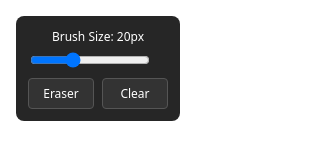
Test: MaskPenTool Component (Story 7.5) › Mask Erasing (AC #3) › should toggle eraser off on second click
Click the button with test id "eraser-toggle": (61, 94) [28,78,94,109]
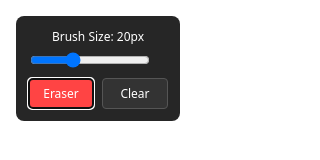
Now the button with test id "eraser-toggle" is pressed
Click the button with test id "eraser-toggle": (61, 94) [28,78,94,109]
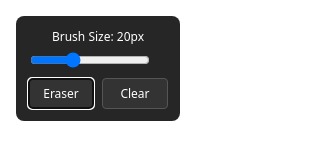
Now the button with test id "eraser-toggle" is not pressed, box [28,78,94,109]
